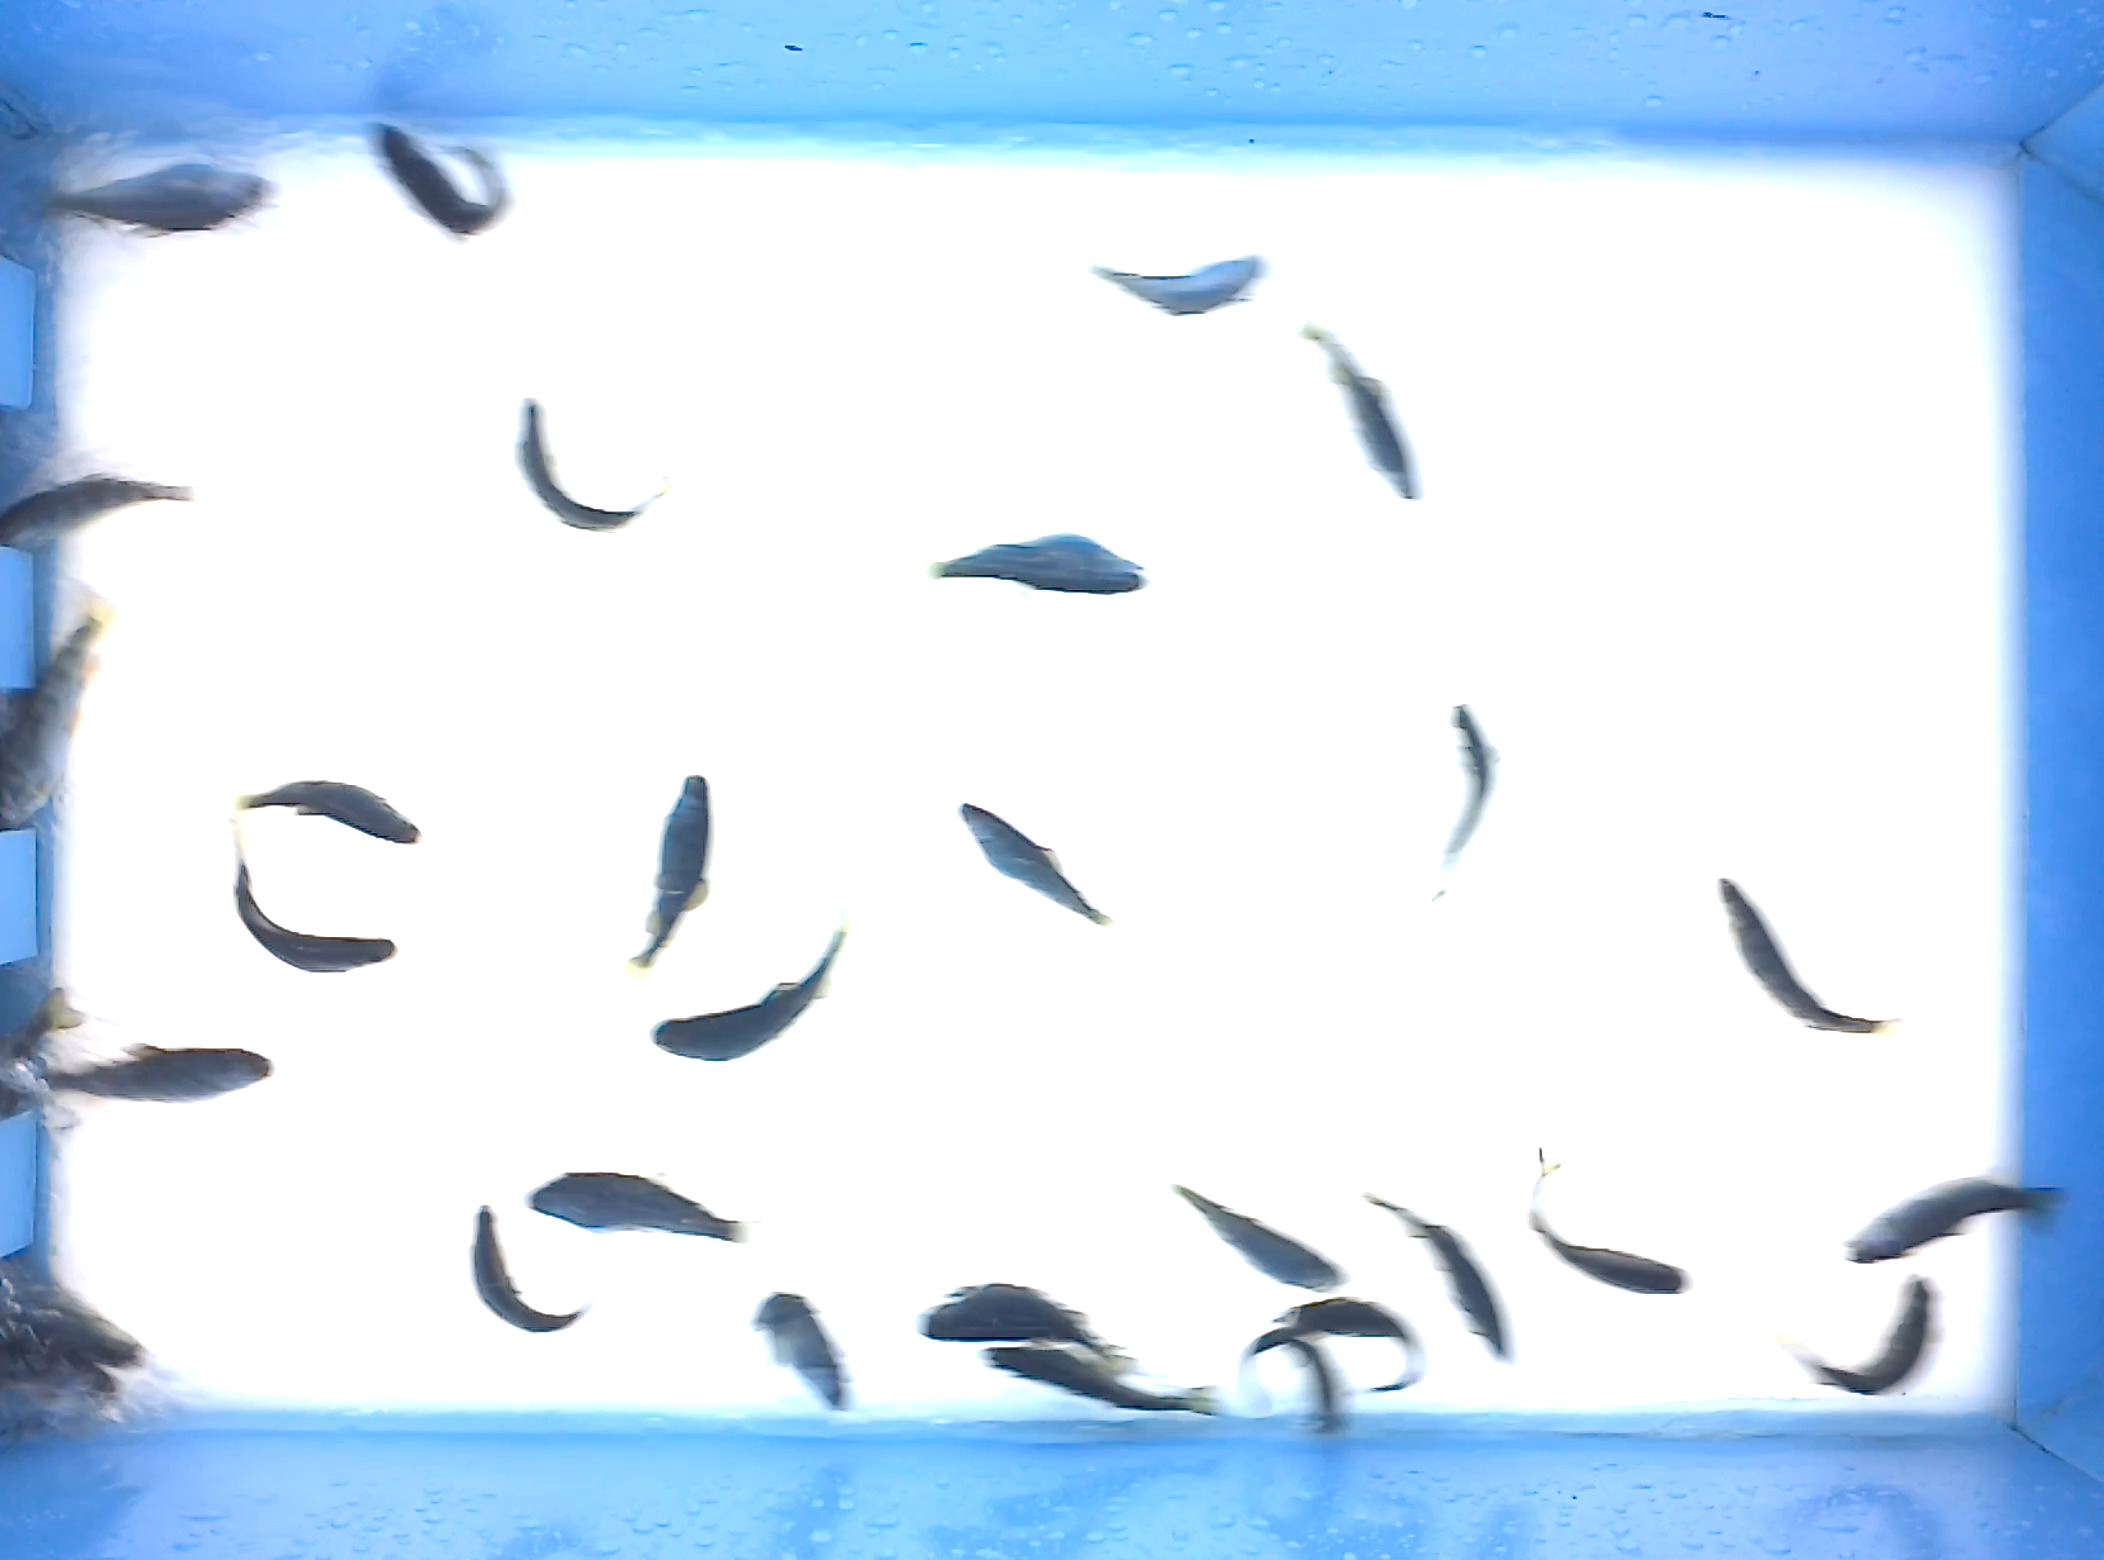fish: (1711, 872, 1906, 1041), (647, 923, 850, 1067), (224, 816, 397, 977), (1362, 1191, 1516, 1368), (1522, 1144, 1694, 1299), (1295, 318, 1427, 505), (914, 1281, 1149, 1381), (510, 392, 669, 537), (1842, 1168, 2076, 1265), (1780, 1272, 1952, 1403), (1162, 1178, 1352, 1295), (975, 1339, 1231, 1421), (360, 116, 519, 247), (955, 800, 1114, 931), (18, 162, 279, 238), (624, 773, 716, 973), (464, 1196, 595, 1336), (521, 1170, 754, 1245), (25, 1037, 275, 1104), (1427, 698, 1504, 911), (923, 529, 1150, 598), (1272, 1299, 1426, 1394), (749, 1288, 854, 1419), (1085, 251, 1273, 323), (233, 777, 423, 847), (1239, 1331, 1352, 1439)
